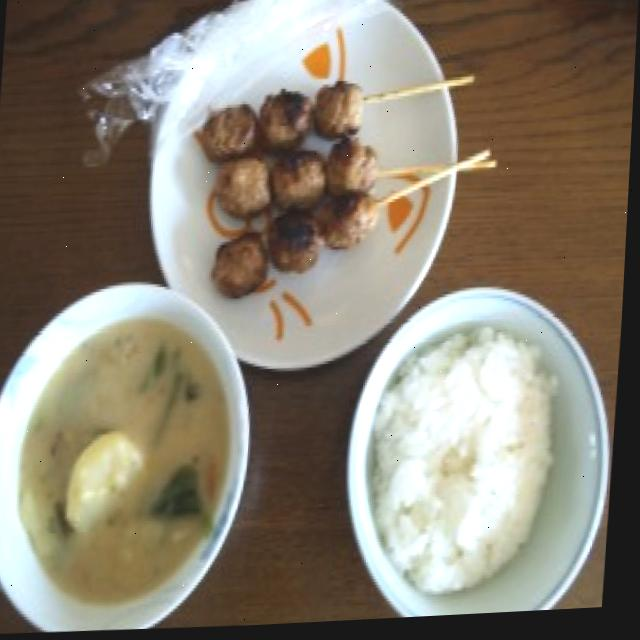米饭主食: (329, 277, 628, 626)
